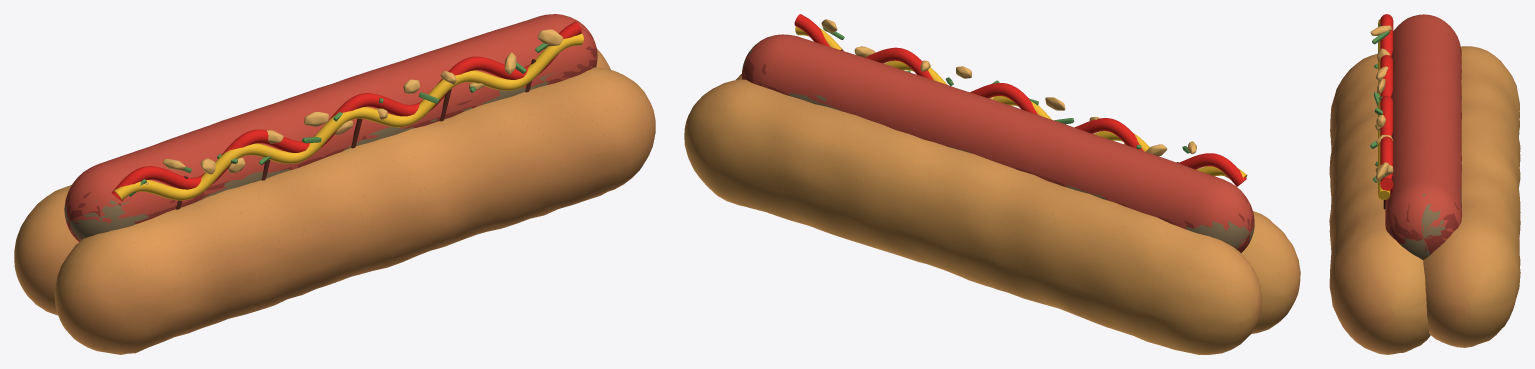
Rendered from good-dog.glb.
3 renders of one model, left to right at view 1: azimuth 30°, elevation 25°; view 2: azimuth 150°, elevation 25°; view 3: azimuth 270°, elevation 25°, orthographic. The views are drawn at different scales.
Parts seen in each view (by area): view 1: Bun_Front, Sausage_Classic, Sauce_Mustard, Bun_Rear, Sauce_Ketchup, Sausage_Plant, Sausage_Smoked; view 2: Bun_Rear, Sausage_Classic, Bun_Front, Sauce_Ketchup, Sausage_Plant, Sauce_Mustard, Sausage_Smoked; view 3: Bun_Rear, Bun_Front, Sausage_Classic, Sauce_Ketchup, Sausage_Smoked, Sausage_Plant, Sauce_Mustard.
Part boxes in pixels (x1,y1,x2,y2): Bun_Front: (54, 67, 655, 354); Sausage_Classic: (65, 14, 597, 240); Sauce_Mustard: (114, 33, 583, 200); Bun_Rear: (14, 48, 610, 315); Sauce_Ketchup: (111, 21, 581, 200); Sausage_Plant: (64, 16, 597, 240); Sausage_Smoked: (66, 27, 597, 241); Bun_Rear: (684, 79, 1261, 354); Sausage_Classic: (742, 34, 1254, 252); Bun_Front: (736, 74, 1300, 333); Sauce_Ketchup: (794, 14, 1246, 186); Sausage_Plant: (743, 37, 1254, 248); Sauce_Mustard: (795, 26, 1247, 177); Sausage_Smoked: (741, 59, 1254, 252); Bun_Rear: (1423, 46, 1520, 347); Bun_Front: (1329, 54, 1430, 354); Sausage_Classic: (1385, 14, 1461, 245); Sauce_Ketchup: (1380, 14, 1393, 200); Sausage_Smoked: (1385, 48, 1461, 254); Sausage_Plant: (1385, 54, 1461, 260); Sauce_Mustard: (1378, 18, 1390, 199).
Bounding box in the file's own units: 7.23 × 2.54 × 2.15.
Materials: 9 (1 with a texture image).
